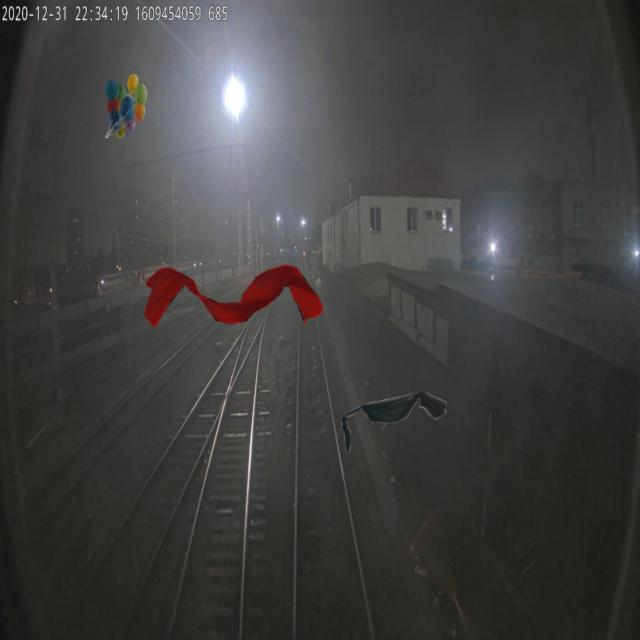balloon: (106, 74, 147, 138)
floating object: (144, 264, 323, 328), (342, 389, 449, 454)
